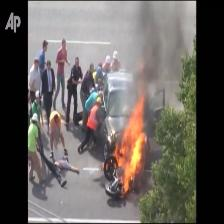fire: (117, 111, 145, 189)
smoke: (133, 3, 179, 109)
